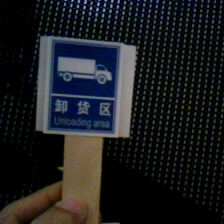unload: (30, 38, 136, 138)
